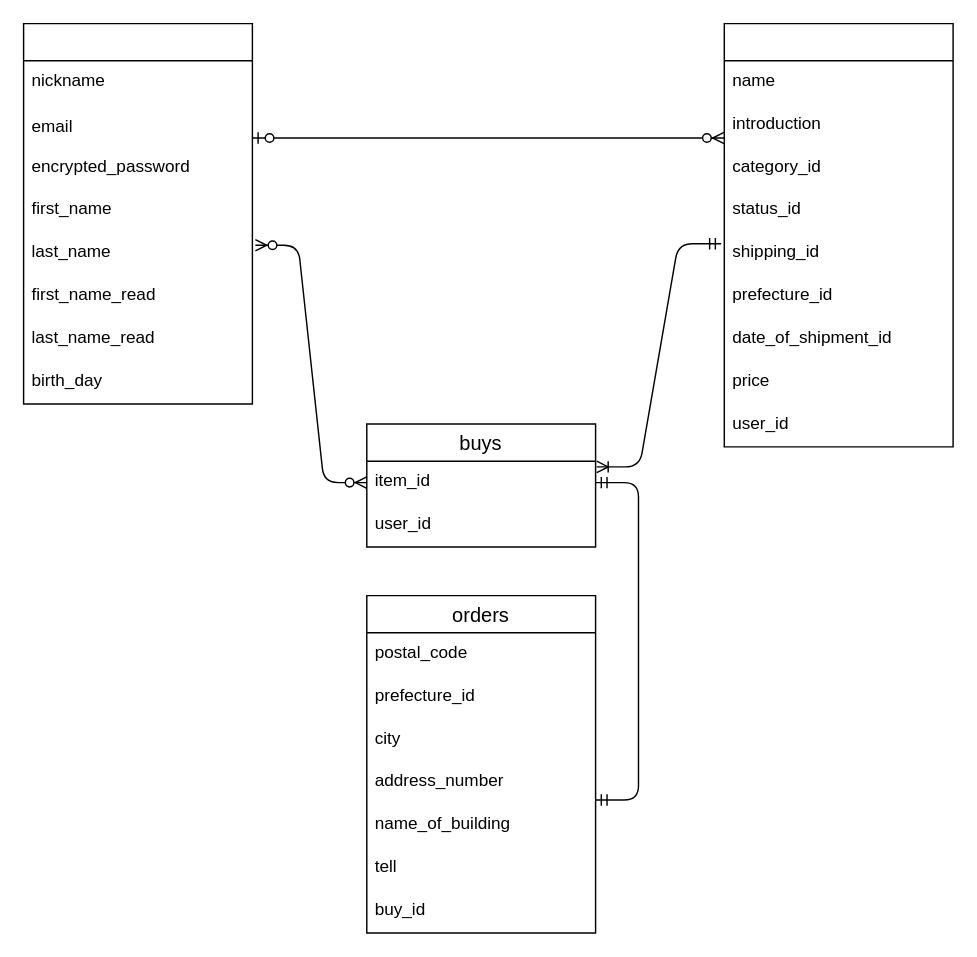
This 977x957 diagram has some shape labels left out. The shapes that lost their labels are listed below. From the top down, each one's box as (x1, y1, x2, y2) in pixels, then its label:
(22, 22, 252, 404): users
(723, 22, 953, 447): items
